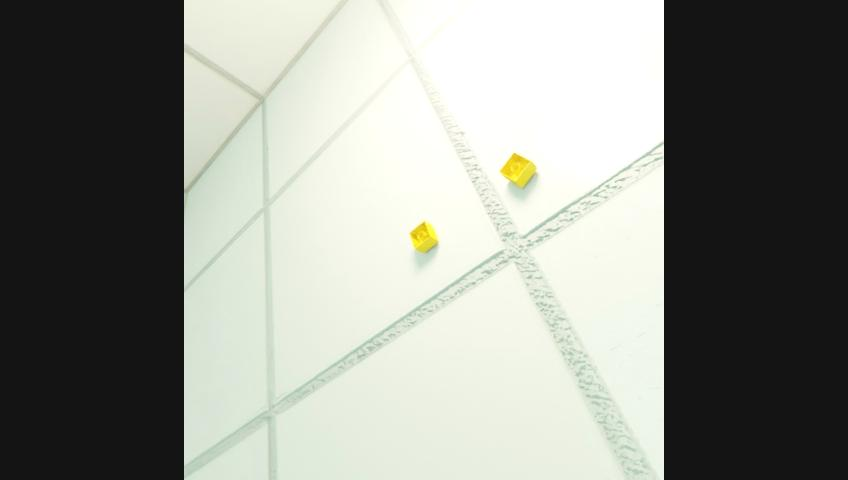2x2_yellow: (498, 152, 537, 187), (408, 221, 438, 253)
